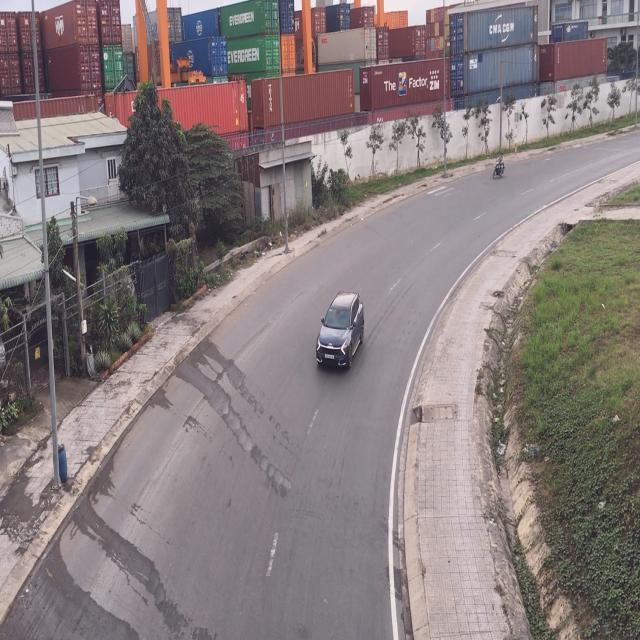car: (316, 293, 367, 374)
motorbike: (492, 152, 506, 179)
